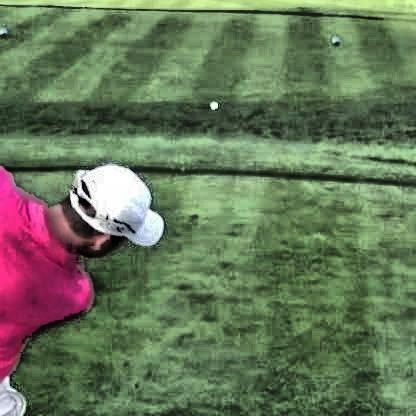golfball: (206, 99, 214, 109)
